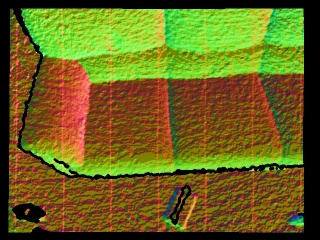station: (164, 185, 197, 229)
